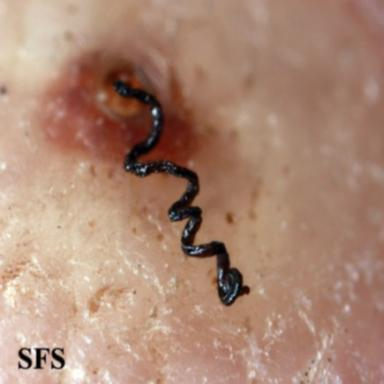Tungiasis: (42, 38, 249, 304)
